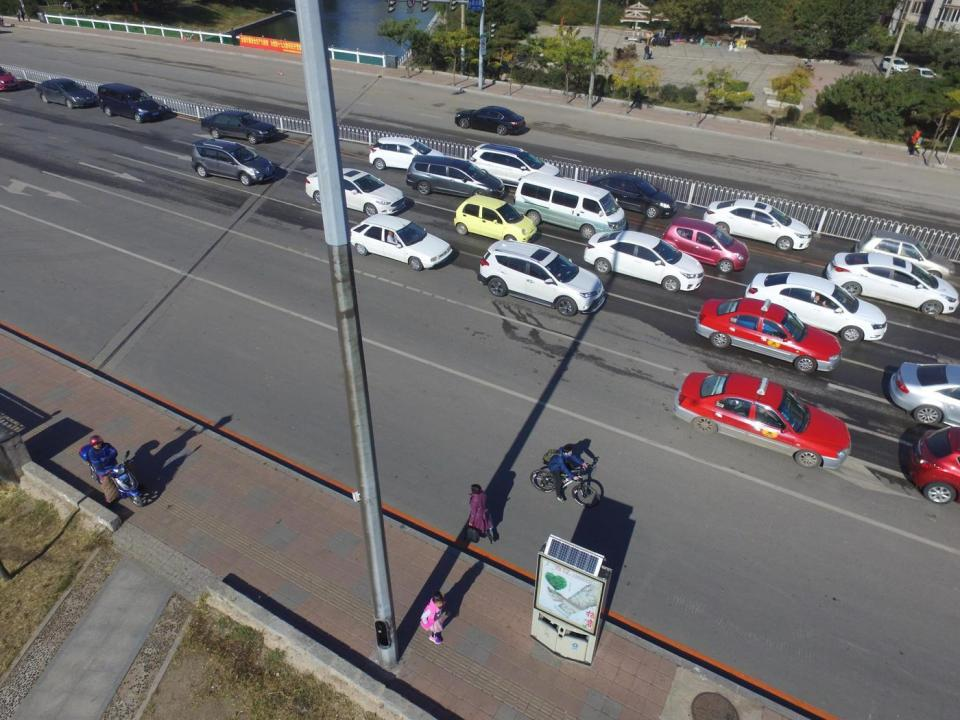car: (674, 365, 851, 469), (694, 295, 841, 381), (477, 233, 605, 317), (750, 268, 887, 344), (829, 249, 960, 317), (588, 224, 709, 296), (697, 195, 813, 253), (342, 212, 454, 270), (852, 223, 956, 280), (462, 138, 563, 195), (307, 166, 407, 218), (660, 215, 749, 272), (888, 361, 960, 431), (582, 168, 677, 220), (361, 127, 450, 181), (453, 188, 537, 244), (189, 134, 269, 184), (204, 104, 280, 148), (453, 103, 528, 136), (36, 78, 100, 111), (878, 53, 910, 77), (910, 64, 939, 88)
van: (515, 172, 627, 243), (404, 154, 506, 204), (97, 81, 164, 123)
